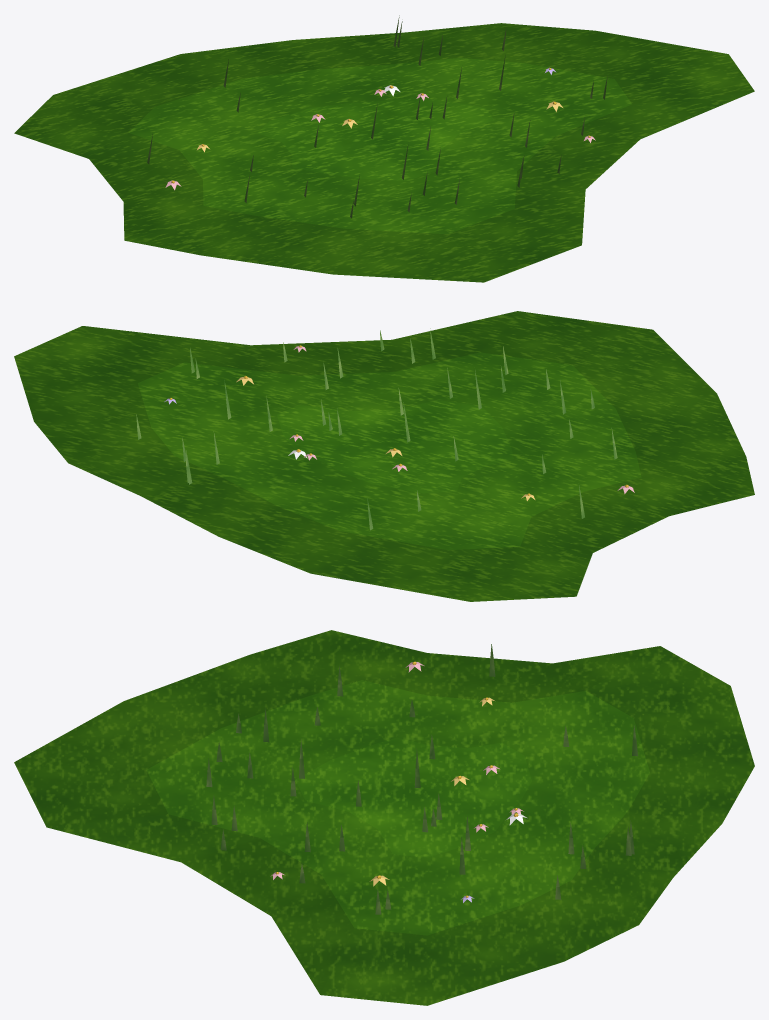
File: turf_patch_sky_a.glb
3 renders of one model, top to bottom at view 1: azimuth 30°, elevation 25°; view 2: azimuth 150°, elevation 25°; view 3: azimuth 270°, elevation 25°, orthographic. The views are drawn at different scales.
Visible parts, largest first — view 1: turf_patch_sky_a; view 2: turf_patch_sky_a; view 3: turf_patch_sky_a.
Boxes of the visible parts, left/top/right/bottom form: turf_patch_sky_a: left=14, top=15, right=754, bottom=282; turf_patch_sky_a: left=14, top=311, right=754, bottom=601; turf_patch_sky_a: left=14, top=630, right=754, bottom=1005.
Bounding box in the file's own units: 7.24 × 0.4545 × 6.03.
3 materials, 2 textured.
